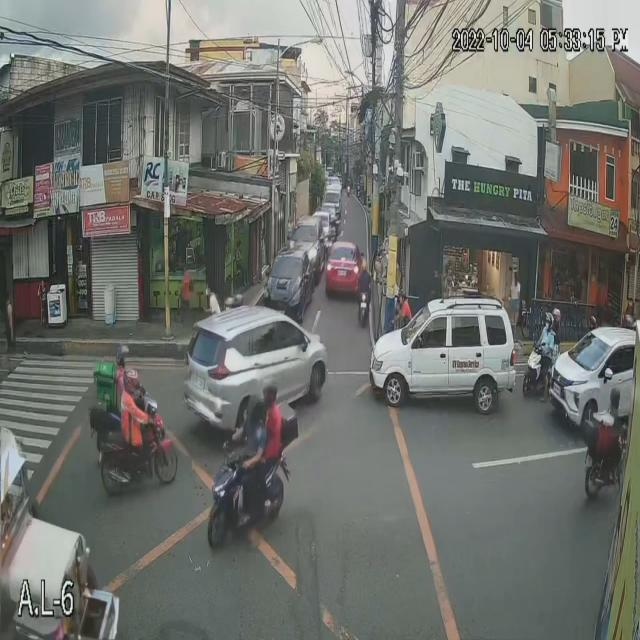Full-Faced: (257, 374, 282, 418), (118, 365, 142, 404), (244, 389, 264, 429), (546, 300, 564, 328)
Half-Faced: (109, 341, 133, 371), (540, 312, 551, 332)
